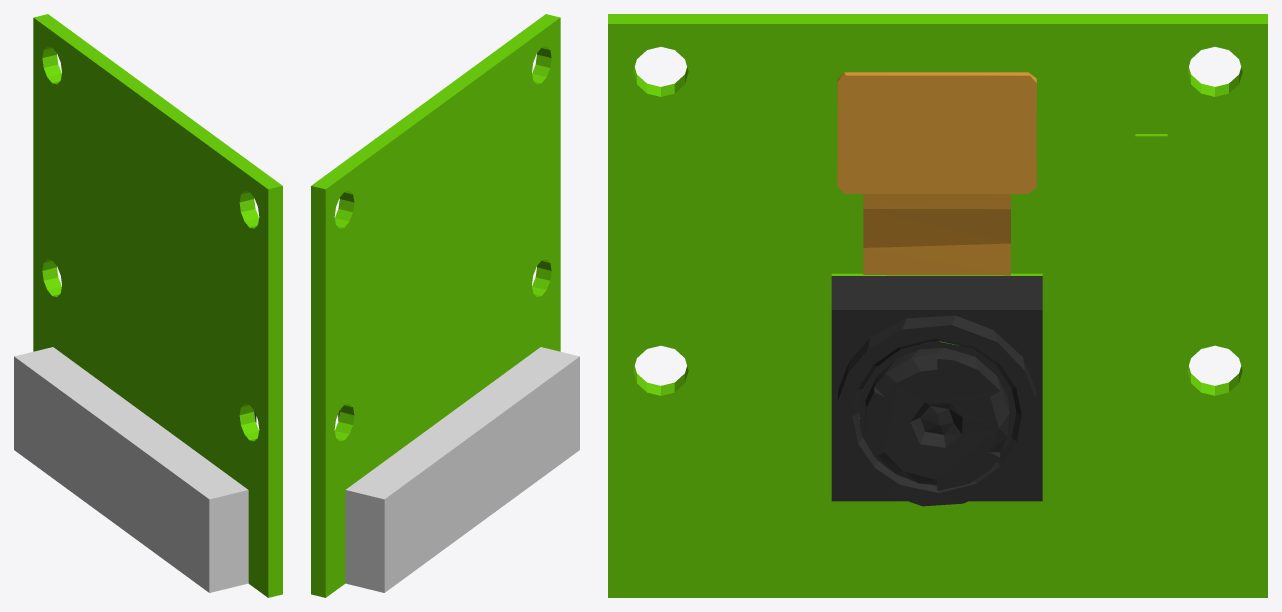
The picture shows the model from 3 angles, left to right: view 1: azimuth 30°, elevation 25°; view 2: azimuth 150°, elevation 25°; view 3: azimuth 270°, elevation 25°; orthographic projection. The views are drawn at different scales.
Visible parts, largest first — view 1: Ov5647; view 2: Ov5647; view 3: Ov5647.
Boxes of the visible parts, box(x1,y1,x2,y2) form: Ov5647: box(14, 14, 282, 597); Ov5647: box(311, 14, 579, 597); Ov5647: box(608, 14, 1267, 597).
Size of the model in its own units: 0.00825 by 0.025 by 0.024.
